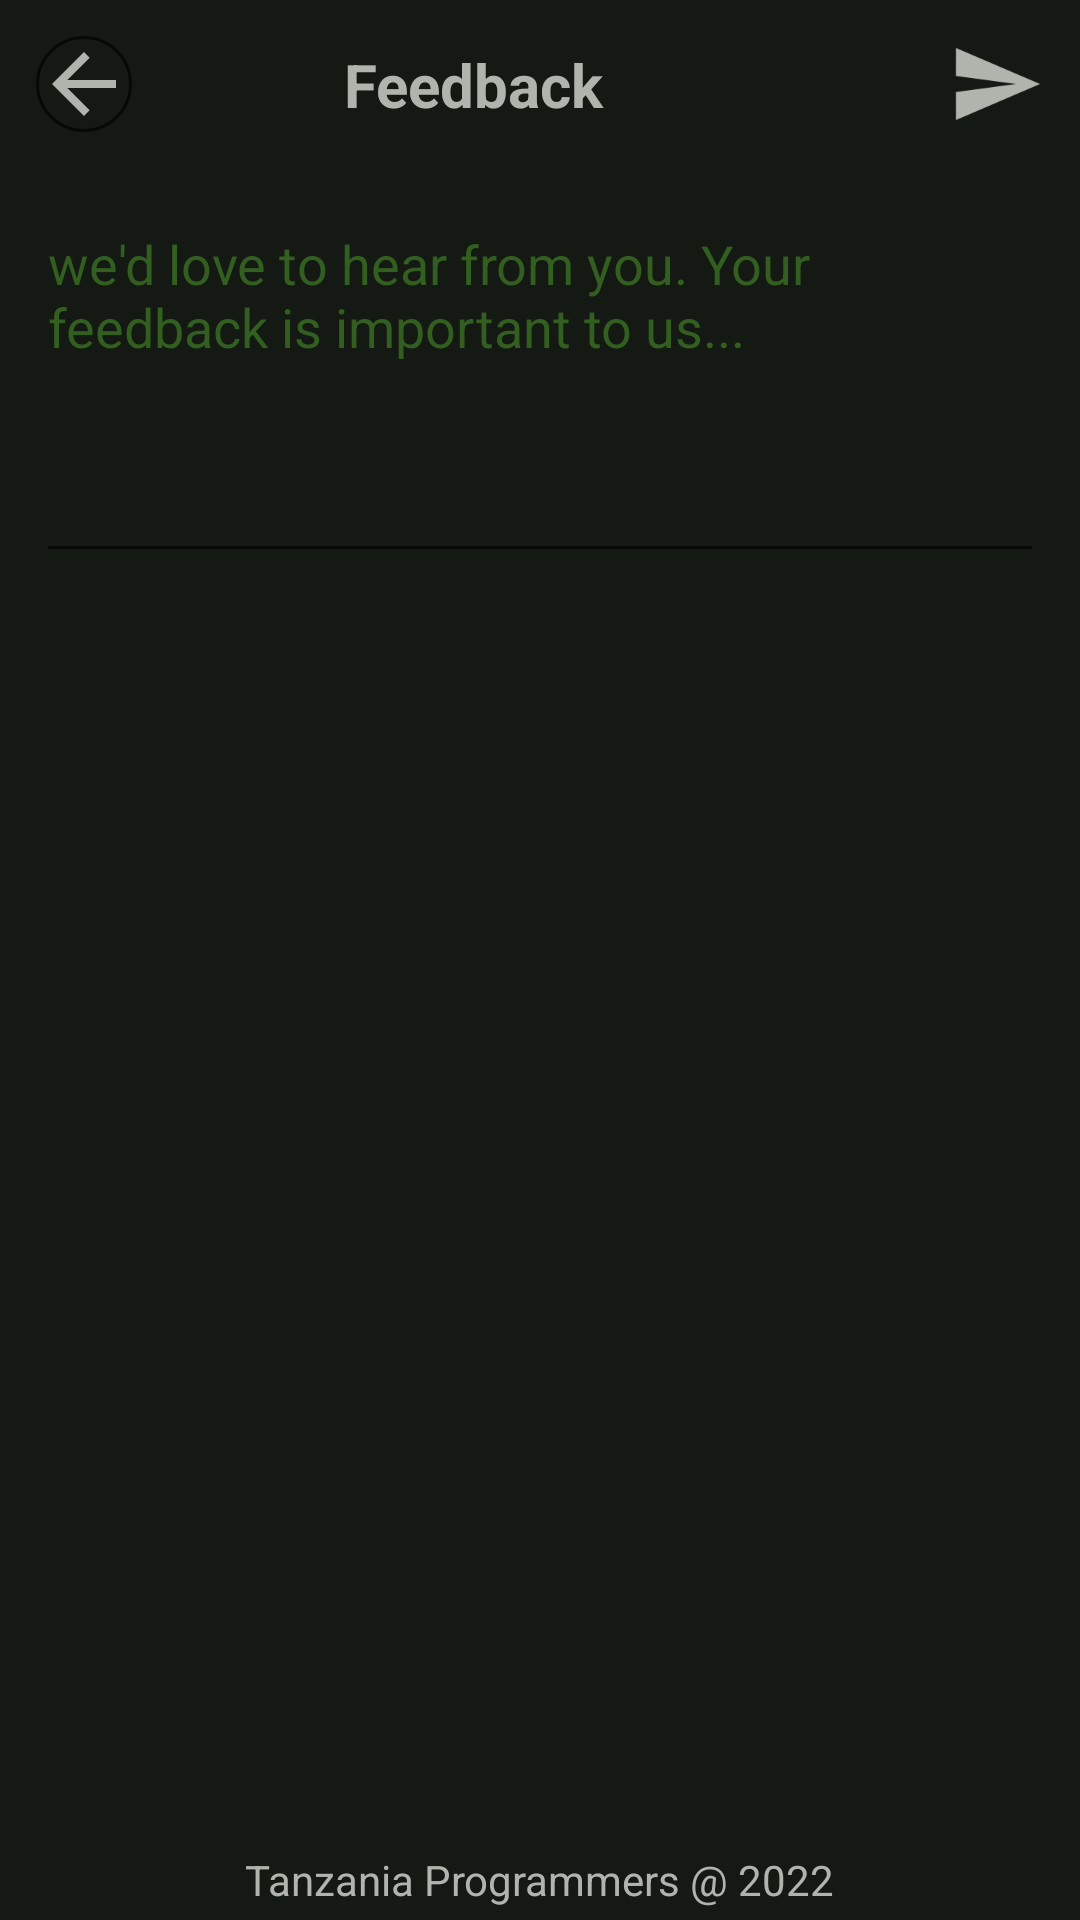

Where to tap for icons on this 1080x1920 app screen, as point (x, y):
send: point (997, 84)
